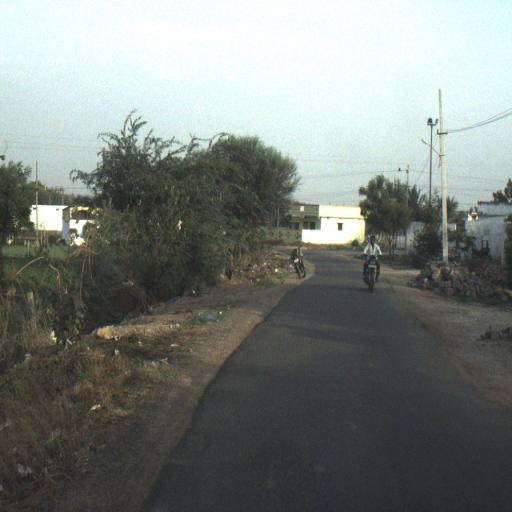street_light_0: (421, 138, 446, 167)
